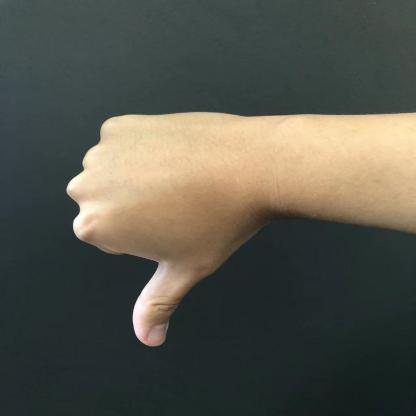Thumbs-Down: (53, 86, 296, 356)
